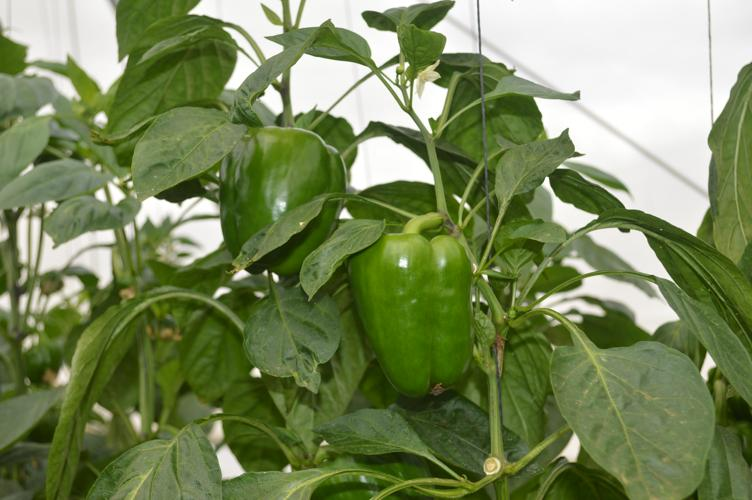BellPepper: (354, 235, 473, 398), (215, 127, 344, 276)
